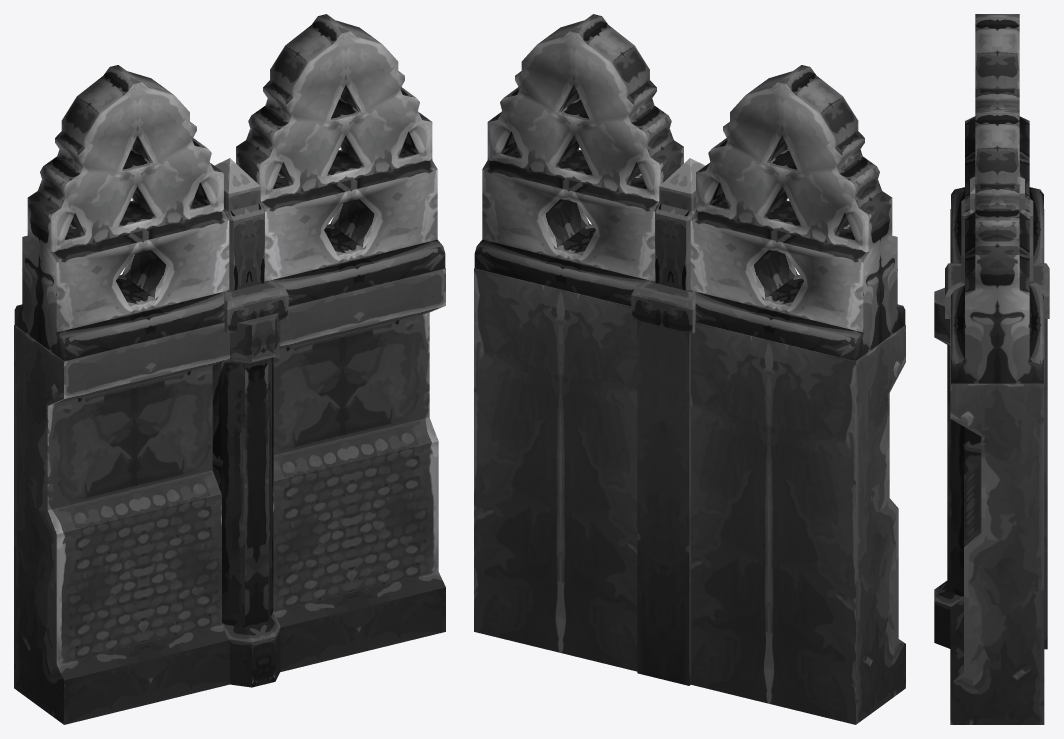
Rendered from VV-WalakuluBemma-2.fbx.
3 renders of one model, left to right at view 1: azimuth 30°, elevation 25°; view 2: azimuth 150°, elevation 25°; view 3: azimuth 270°, elevation 25°, orthographic. The views are drawn at different scales.
Parts seen in each view (by area): view 1: WalakuluBemmaBuild-2; view 2: WalakuluBemmaBuild-2; view 3: WalakuluBemmaBuild-2.
Boxes of the visible parts, <box> form: WalakuluBemmaBuild-2: <box>14,14,445,724</box>; WalakuluBemmaBuild-2: <box>474,14,905,724</box>; WalakuluBemmaBuild-2: <box>934,14,1049,724</box>.
Size of the model in its own units: 2.2 by 3.36 by 0.6141.
